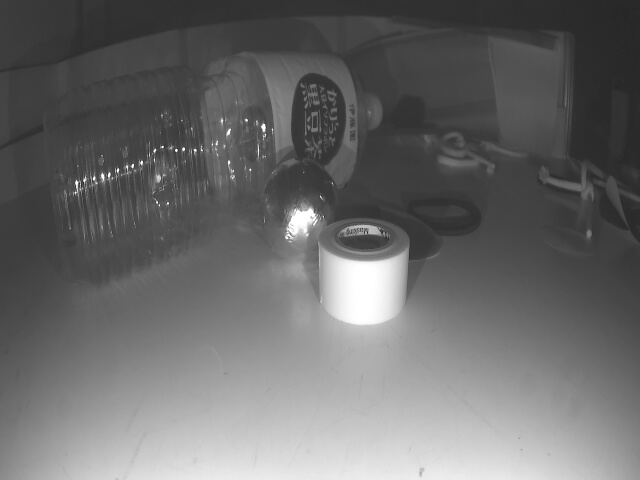Live: (263, 158, 337, 262)
